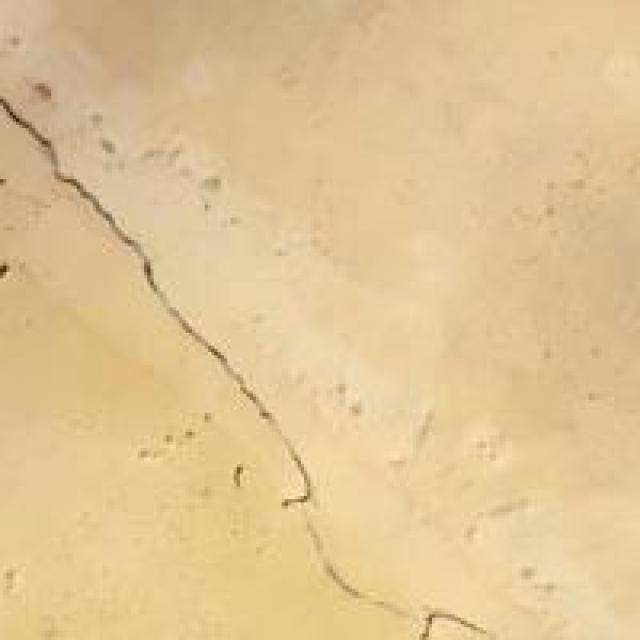Crack: (4, 68, 343, 567)
